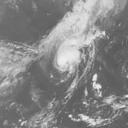cyclone: (55, 40, 83, 74)
